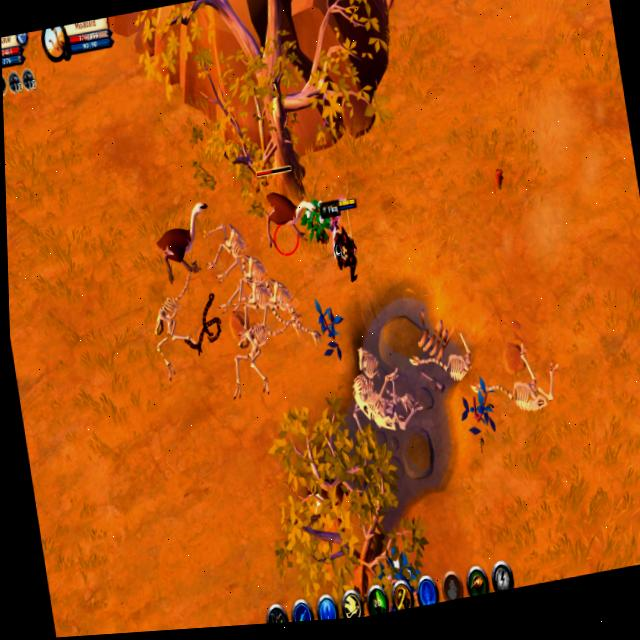hide: (299, 192, 334, 249)
ore: (147, 191, 218, 294), (256, 158, 312, 259)
red: (322, 194, 367, 284)
